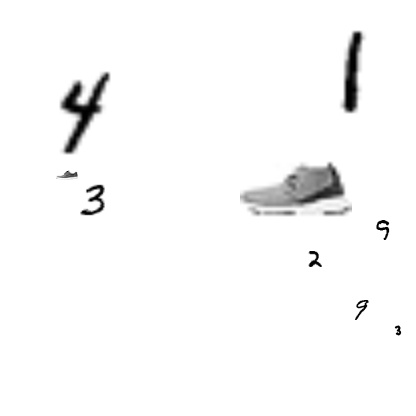1: (293, 16, 405, 128)
2: (303, 248, 325, 270)
3: (73, 179, 115, 221), (391, 323, 405, 337)
4: (25, 53, 137, 165)
9: (347, 293, 375, 321), (369, 213, 397, 241)
Sneaker: (240, 131, 352, 243), (56, 164, 78, 186)
